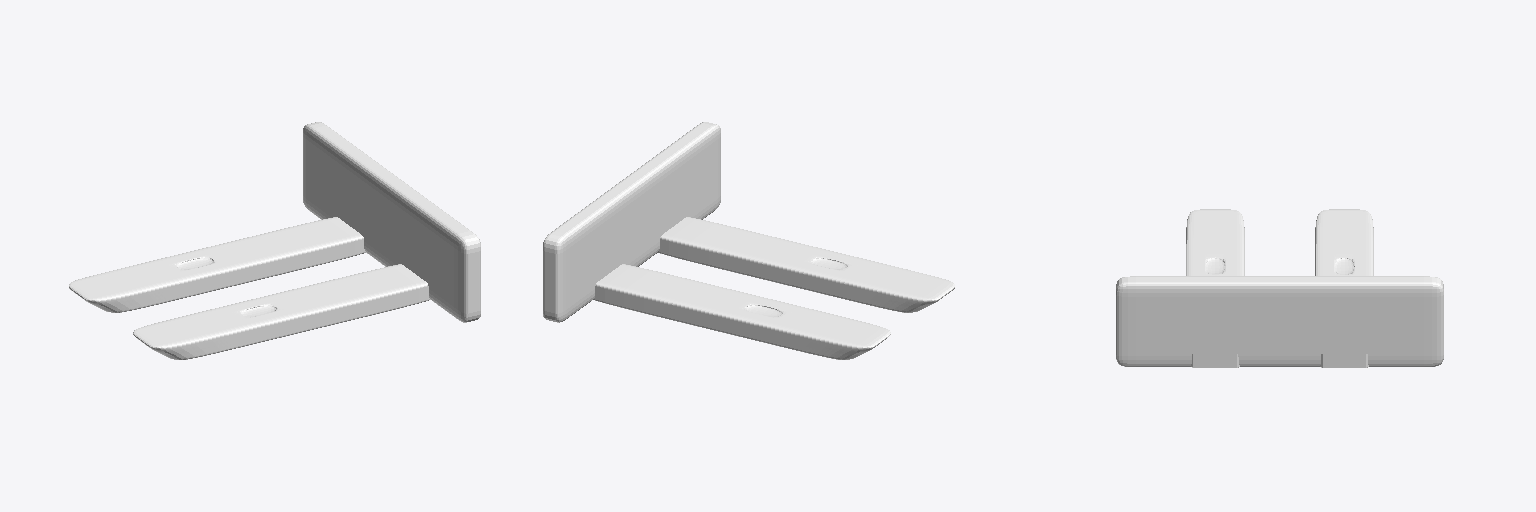
The model's file is lift.obj.
The picture shows the model from 3 angles: view 1: azimuth 30°, elevation 25°; view 2: azimuth 150°, elevation 25°; view 3: azimuth 270°, elevation 25°; orthographic projection.
Visible parts, largest first — view 1: 叉车; view 2: 叉车; view 3: 叉车.
Boxes of the visible parts, box(x1,y1,x2,y2) form: 叉车: box(69, 122, 480, 359); 叉车: box(543, 122, 954, 359); 叉车: box(1116, 209, 1443, 367).
Bounding box in the file's own units: 158 × 44.58 × 154.